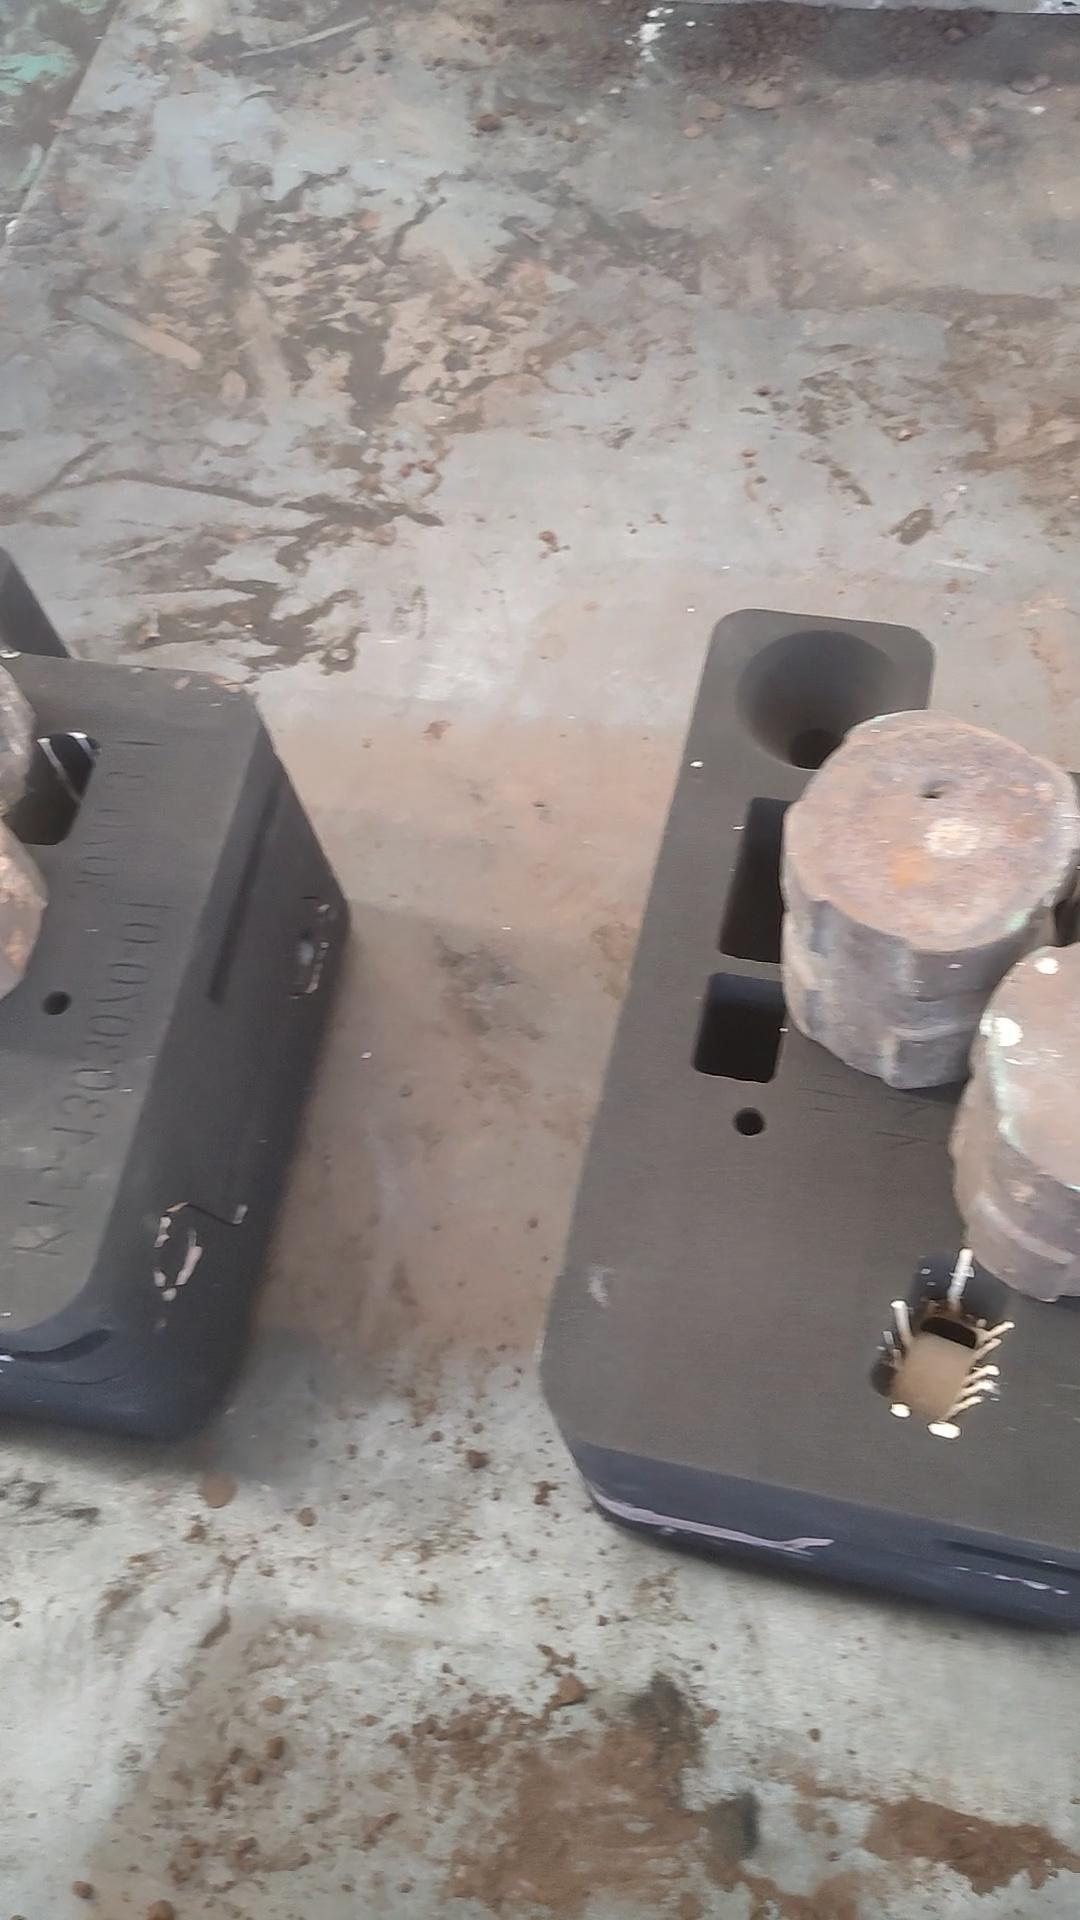pouring hole: (735, 632, 905, 771)
